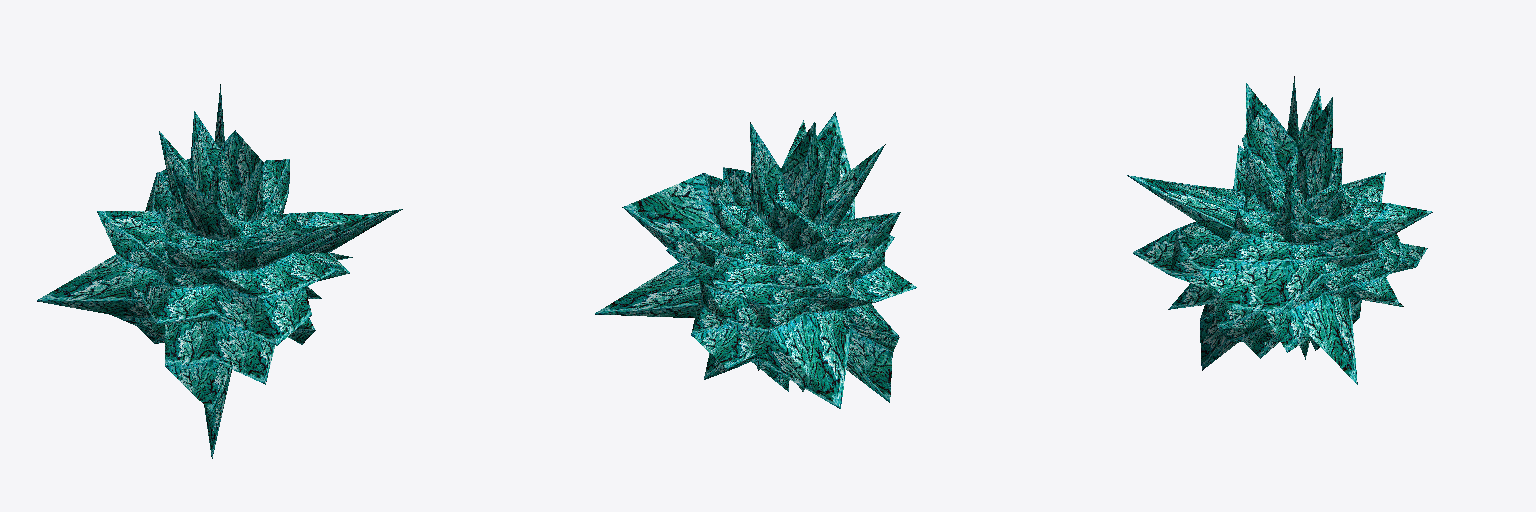
The picture shows the model from 3 angles: view 1: azimuth 30°, elevation 25°; view 2: azimuth 150°, elevation 25°; view 3: azimuth 270°, elevation 25°; orthographic projection.
Visible parts, largest first — view 1: Landscape; view 2: Landscape; view 3: Landscape.
Boxes of the visible parts, x1=… form: Landscape: x1=37, y1=84, x2=402, y2=458; Landscape: x1=595, y1=112, x2=916, y2=408; Landscape: x1=1127, y1=76, x2=1432, y2=384.
Size of the model in its own units: 9.99 by 10.14 by 9.08.
Materials: 1 (1 with a texture image).